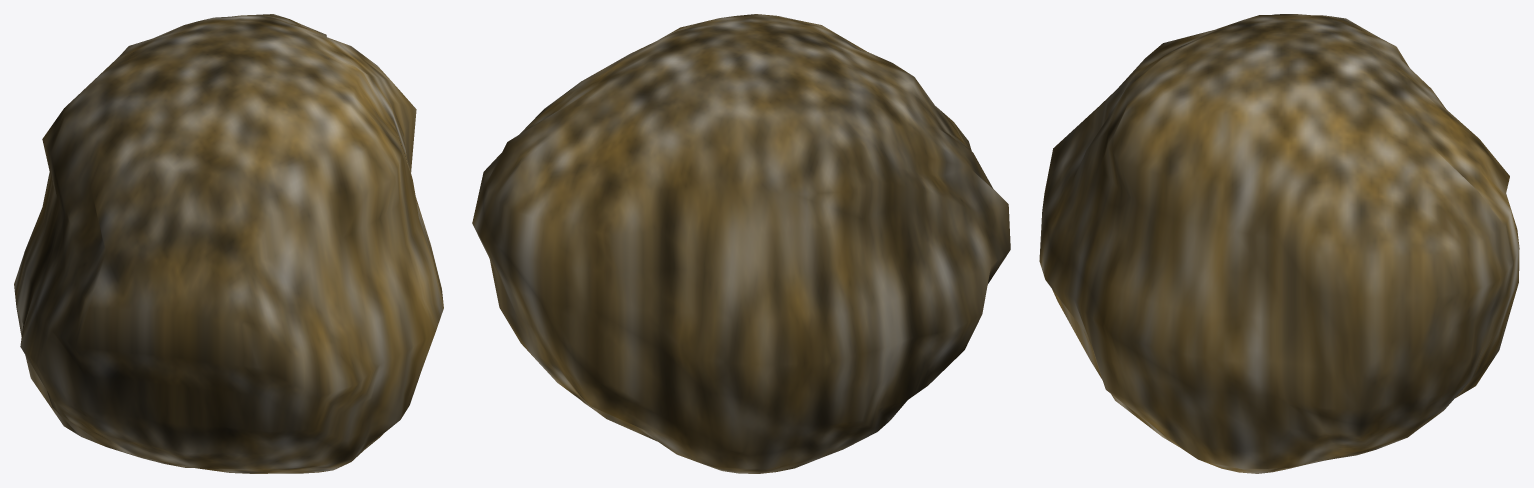
The model's file is ooiwa3.FBX.
The picture shows the model from 3 angles, left to right: view 1: azimuth 30°, elevation 25°; view 2: azimuth 150°, elevation 25°; view 3: azimuth 270°, elevation 25°; orthographic projection. The views are drawn at different scales.
Parts seen in each view (by area): view 1: Sphere001; view 2: Sphere001; view 3: Sphere001.
Boxes of the visible parts, <box> form: Sphere001: <box>14,14,443,473</box>; Sphere001: <box>472,14,1010,473</box>; Sphere001: <box>1039,14,1519,473</box>.
Bounding box in the file's own units: 60.49 × 57.2 × 60.49.
